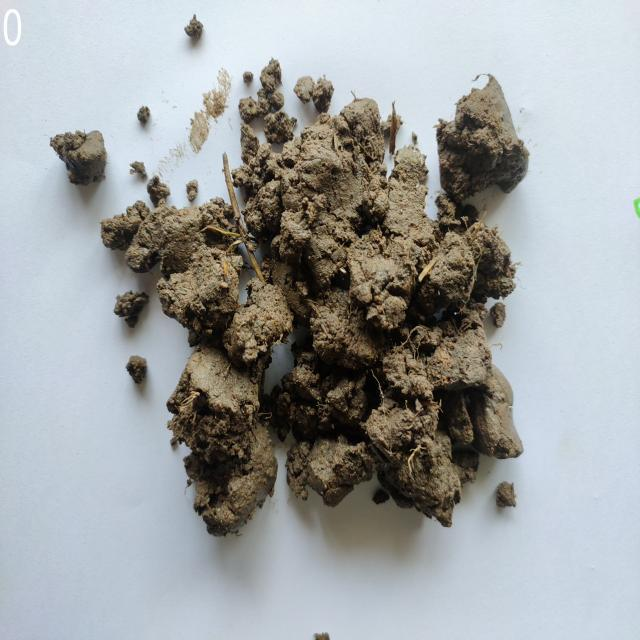soil: (254, 195, 438, 447)
